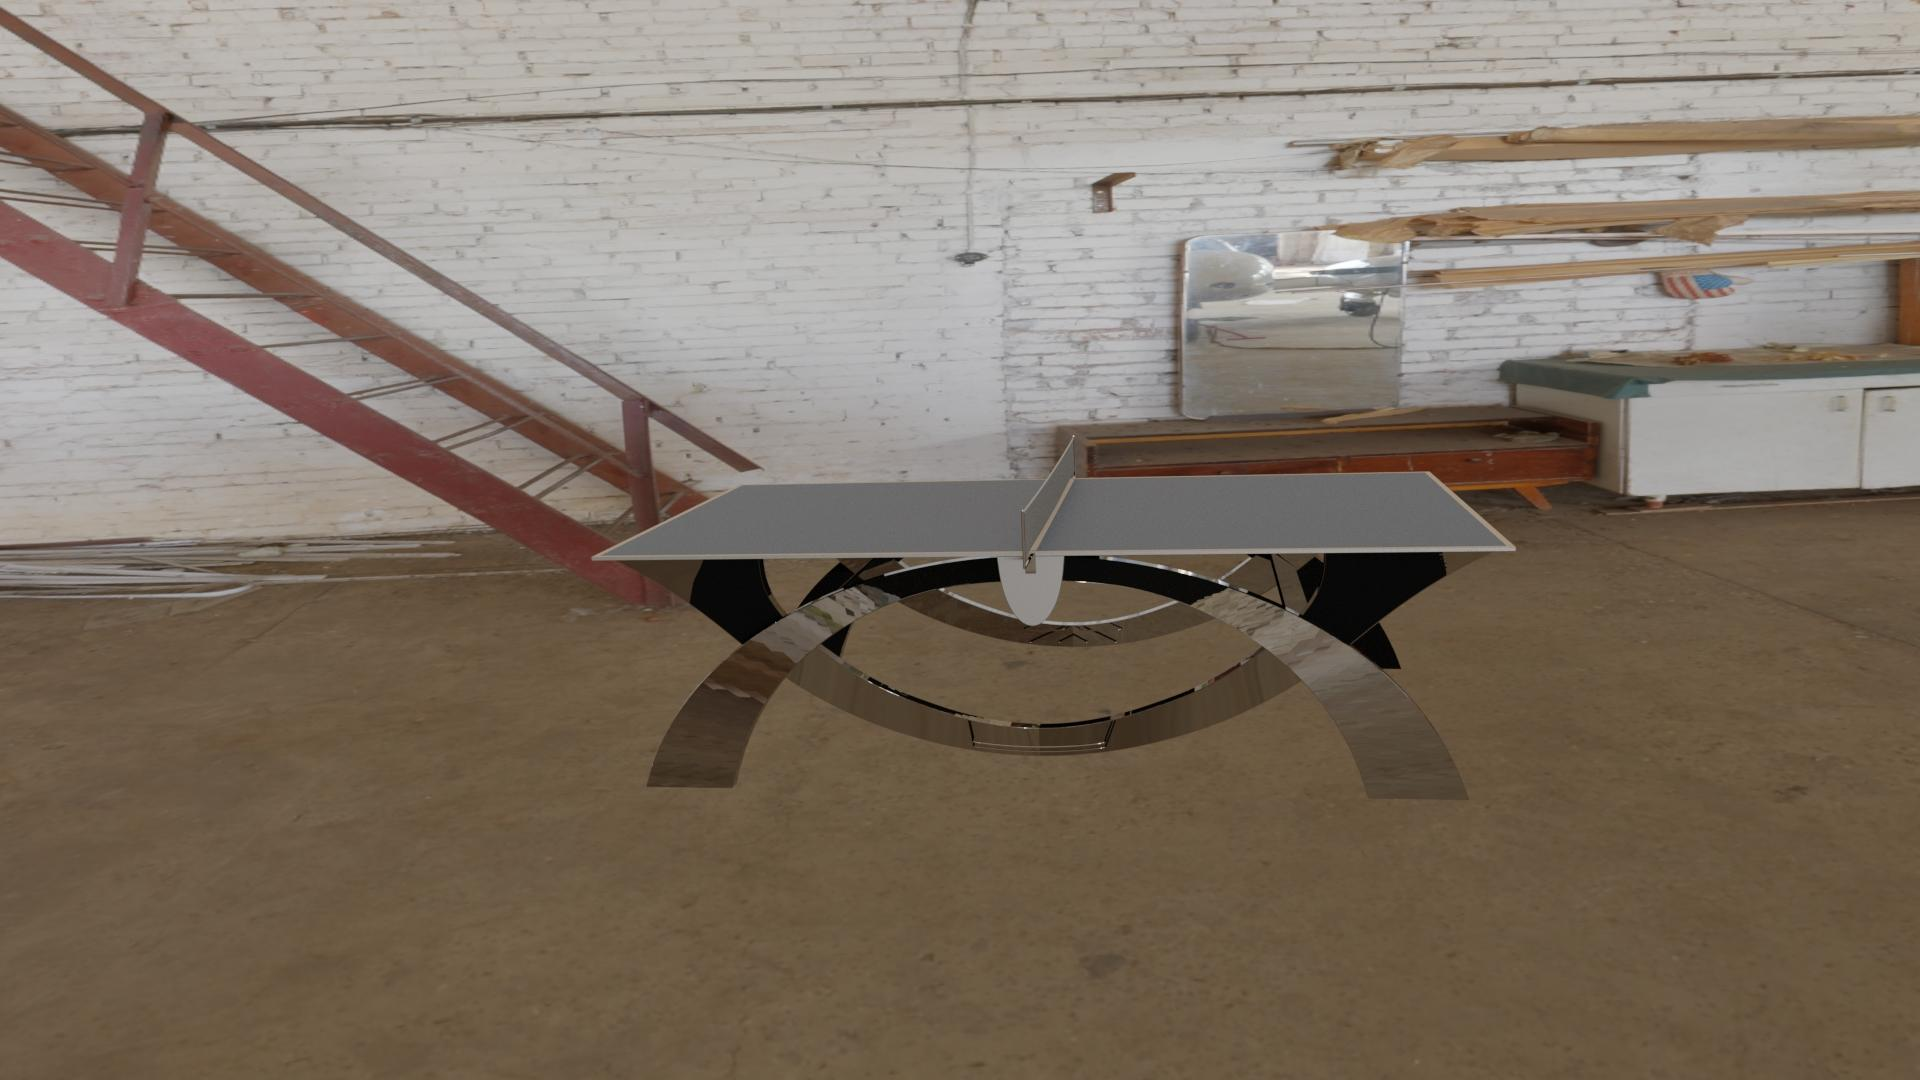table: (600, 472, 1507, 556)
